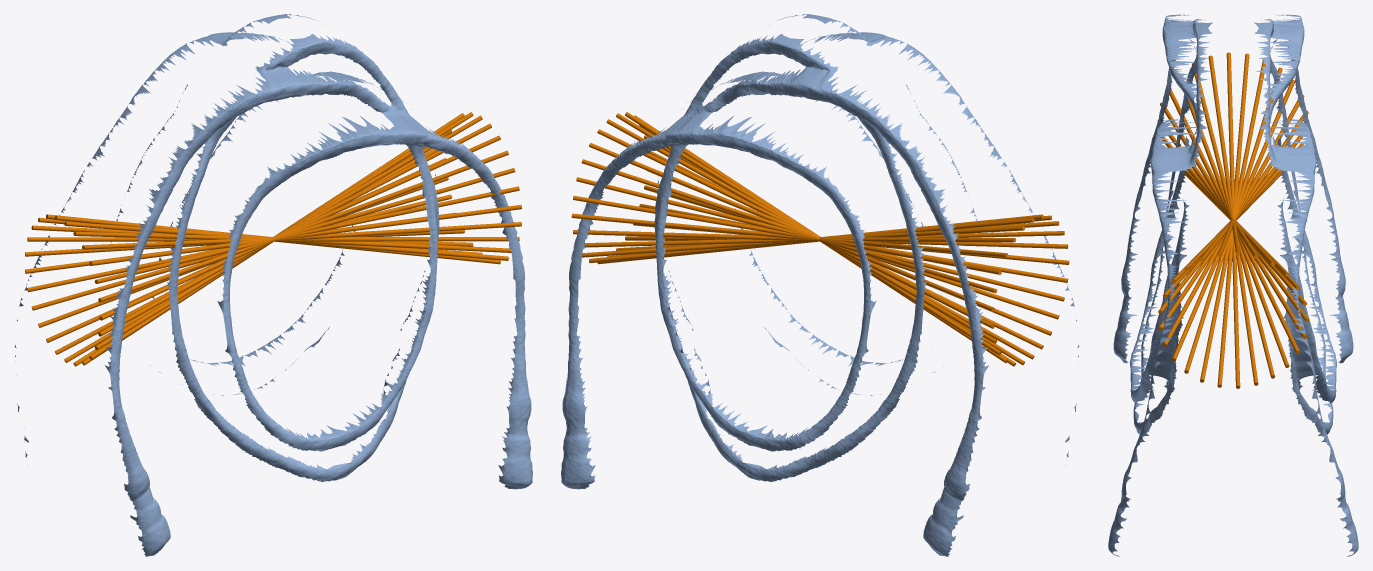
The model's file is A20021016_6145-37-530-7652_DigitalTwin.glb.
3 renders of one model, left to right at view 1: azimuth 30°, elevation 25°; view 2: azimuth 150°, elevation 25°; view 3: azimuth 270°, elevation 25°, orthographic. The views are drawn at different scales.
Parts seen in each view (by area): view 1: world; view 2: world; view 3: world.
Part boxes in pixels (<box>): world: <box>14,14,532,556</box>; world: <box>561,14,1079,556</box>; world: <box>1108,14,1358,556</box>.
Bounding box in the file's own units: 440 × 457 × 233.
